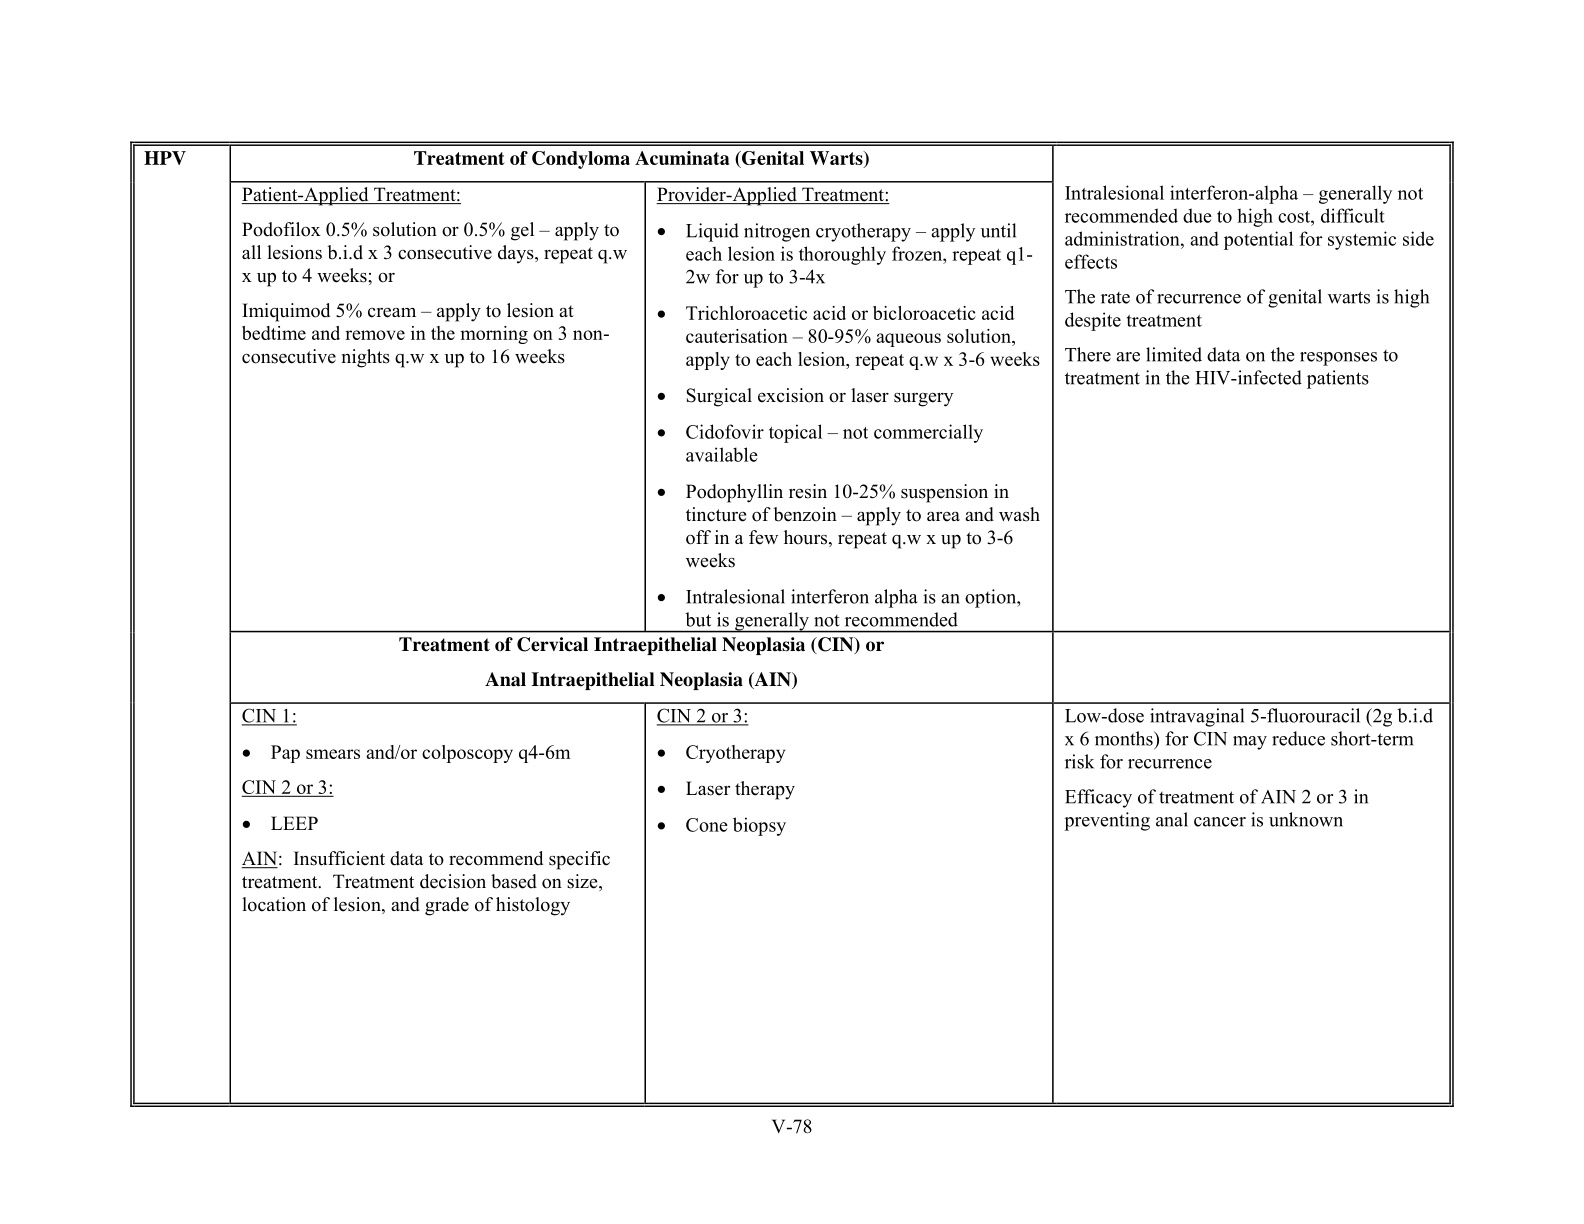merged_cells: (130, 141, 1454, 1107)
